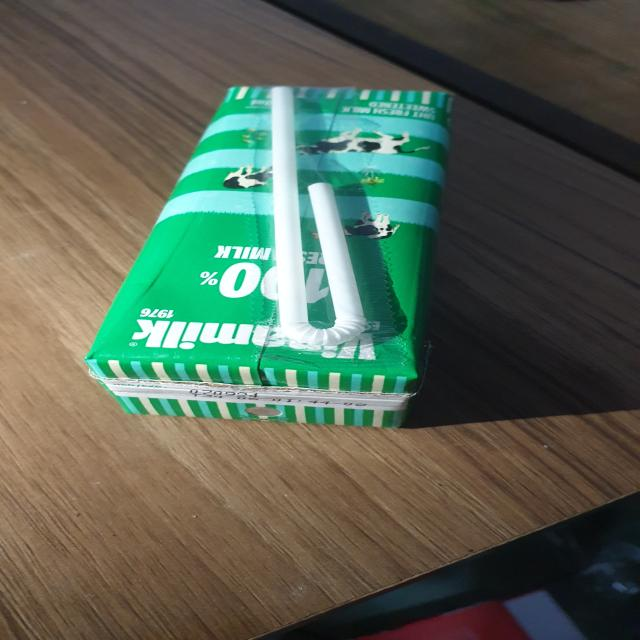Vina: (74, 83, 464, 439)
